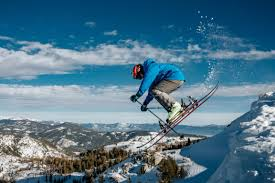skis: (138, 85, 220, 152)
